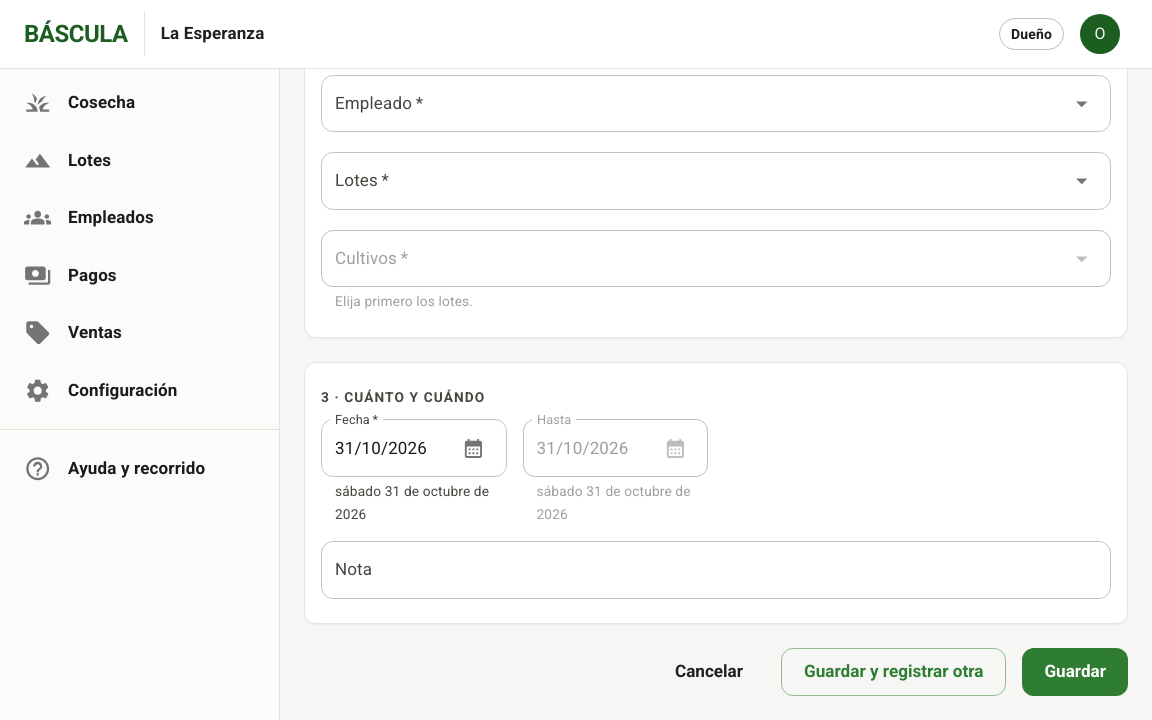
Test: the seeded farm renders what the wireframes promise › registers a work record and refuses one with holes in it
(page scrolled)
# Submitting an empty form names every missing field at once.
Click the button "Guardar": (1075,672) left=1022, top=648, right=1128, bottom=696
(page scrolled)
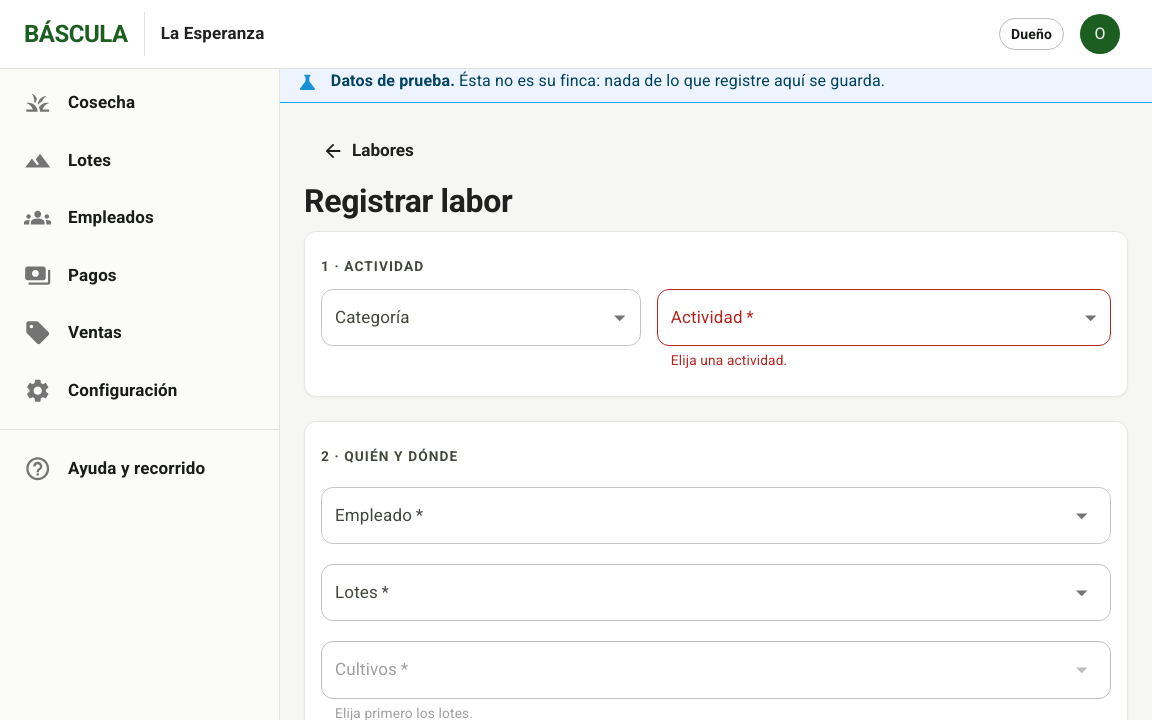
Now the text "Elija una actividad." is shown, box left=671, top=352, right=787, bottom=368
